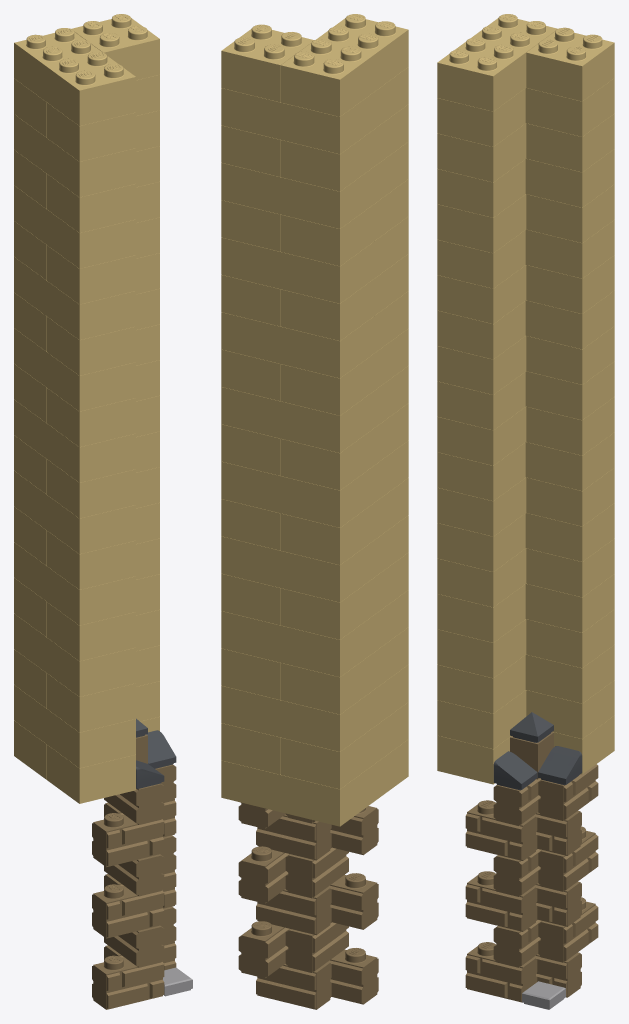
Rendered from wallCorner.fbx.
3 renders of one model, left to right at view 1: azimuth 30°, elevation 25°; view 2: azimuth 150°, elevation 25°; view 3: azimuth 330°, elevation 25°, orthographic. The views are drawn at different scales.
Visible parts, largest first — view 1: WallLeft, WallRight, Ground; view 2: WallRight, WallLeft; view 3: WallLeft, WallRight, Ground.
Boxes of the visible parts, x1=… form: WallLeft: x1=14, y1=28, x2=164, y2=1009; WallRight: x1=14, y1=14, x2=176, y2=970; Ground: x1=163, y1=967, x2=192, y2=996; WallRight: x1=221, y1=24, x2=374, y2=1009; WallLeft: x1=281, y1=14, x2=408, y2=1004; WallLeft: x1=437, y1=14, x2=557, y2=1002; WallRight: x1=510, y1=27, x2=614, y2=997; Ground: x1=522, y1=981, x2=565, y2=1009.
Size of the model in its own units: 3192 by 25150 by 3192.
